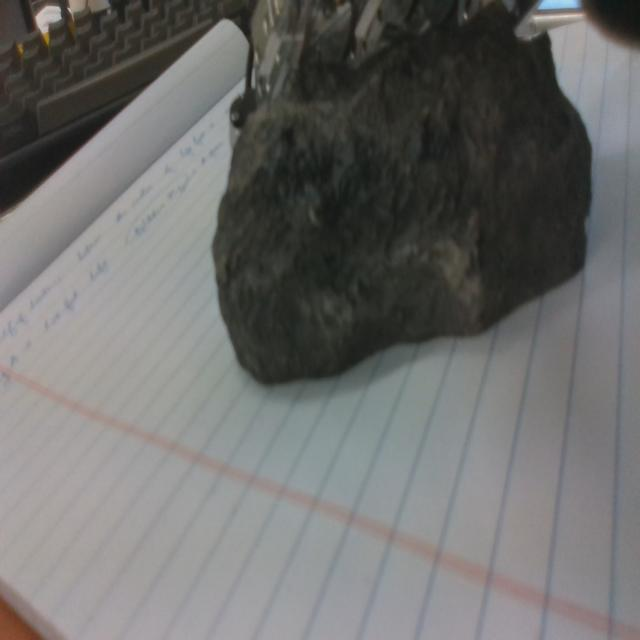stone: (211, 0, 594, 385)
